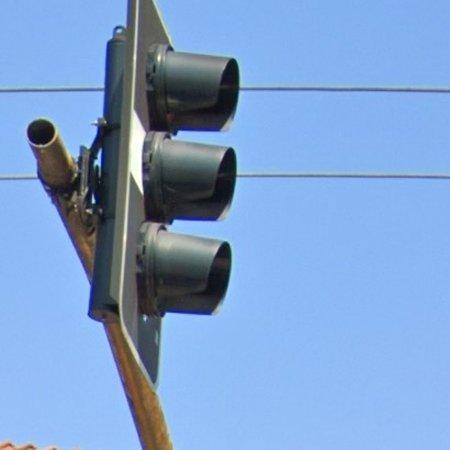traffic lights: (88, 0, 240, 393)
